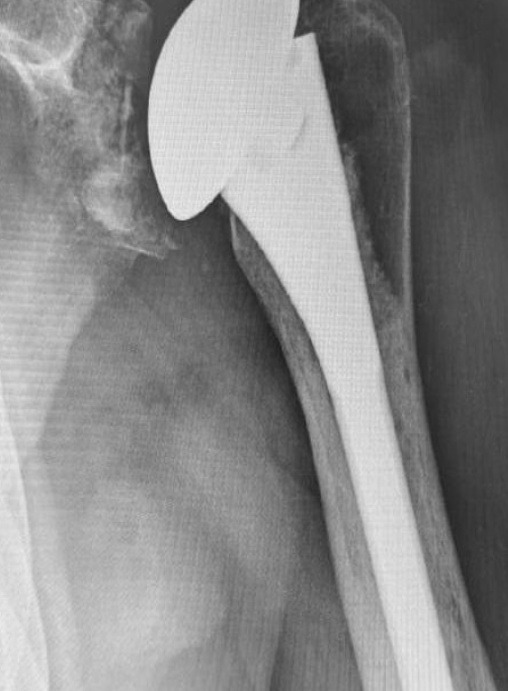Shoulder - Anotomical - Stryker: (132, 1, 363, 229)
